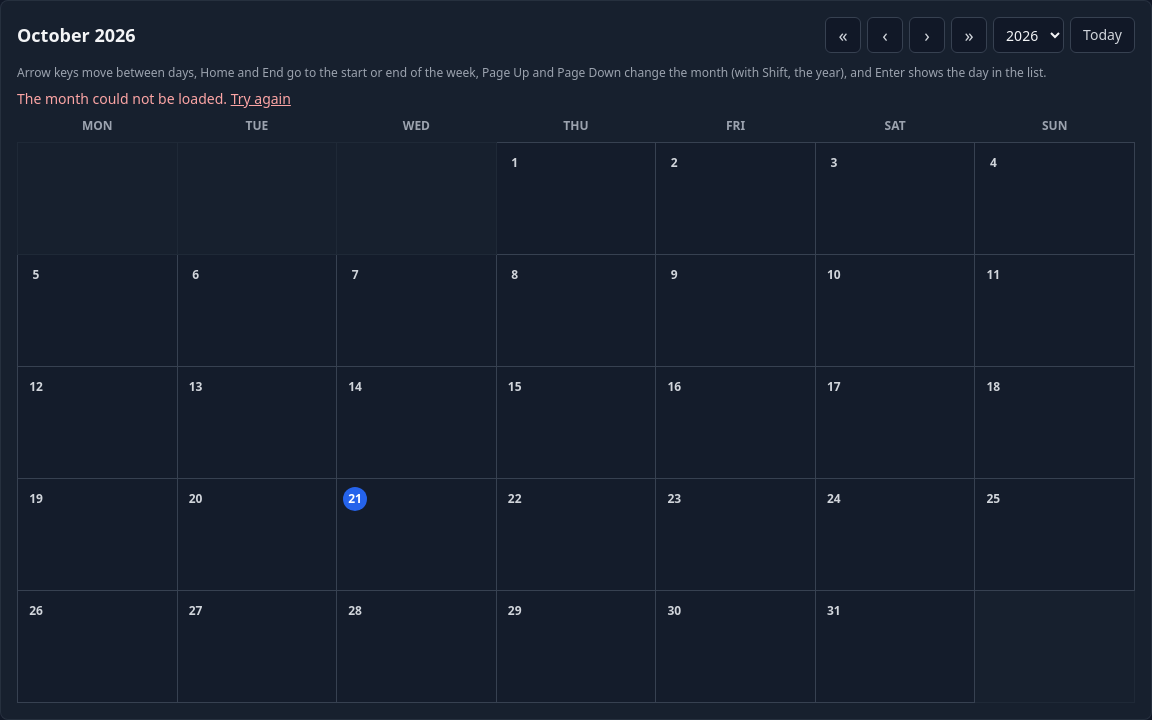
Test: JournalCalendar › says when the month could not be loaded and tries again
Expected: the message shows "The month could not be loaded.", [17, 89, 227, 108]
Click the button "Try again": (261, 99) [231, 89, 291, 109]
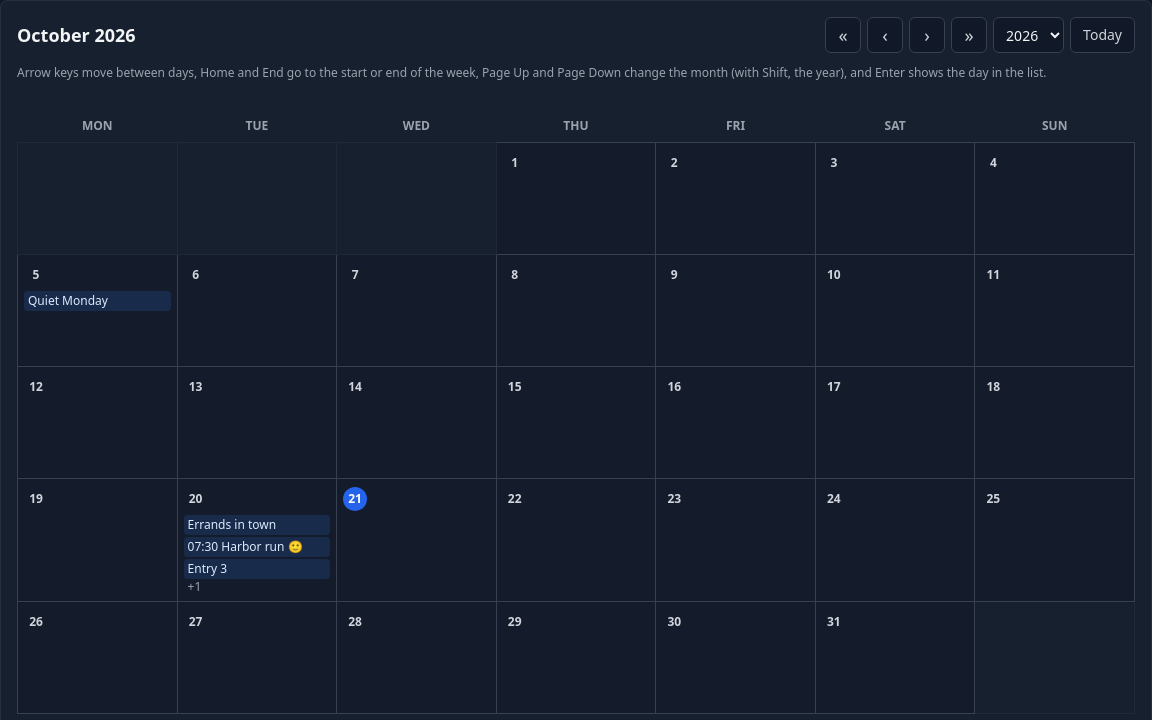
Now the cell named "Tuesday, October 20, 2026: 4 entries" is shown, box [177, 478, 337, 602]
Now the message "The month could not be loaded. Try again" is gone
